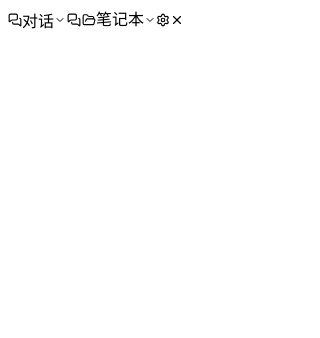
Test case: floating bar account › starts sign-in from settings and tells the user to finish in the browser
This screenshot has width=320, height=338.
Click the button named "打开设置" at (163, 20), box x1=156 y1=13 x2=170 y2=27
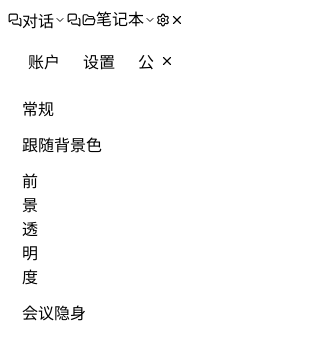
Click the tab "账户" at (44, 61), box x1=18 y1=48 x2=70 y2=74
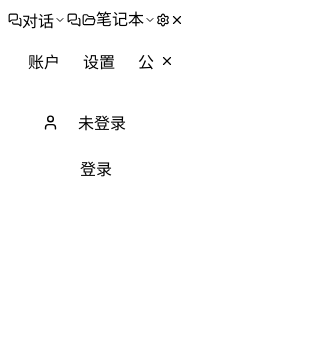
Expected: the text "未登录" is shown, x1=78 y1=110 x2=126 y2=134
Click the button "登录" at (96, 170), box x1=20 y1=162 x2=172 y2=178
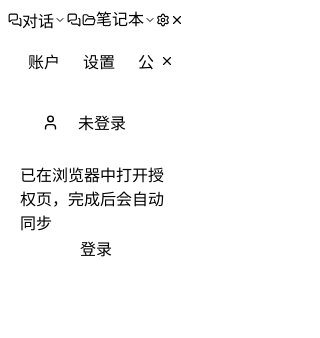
Expected: the text "已在浏览器中打开授权页，完成后会自动同步" is shown, x1=20 y1=162 x2=172 y2=234
